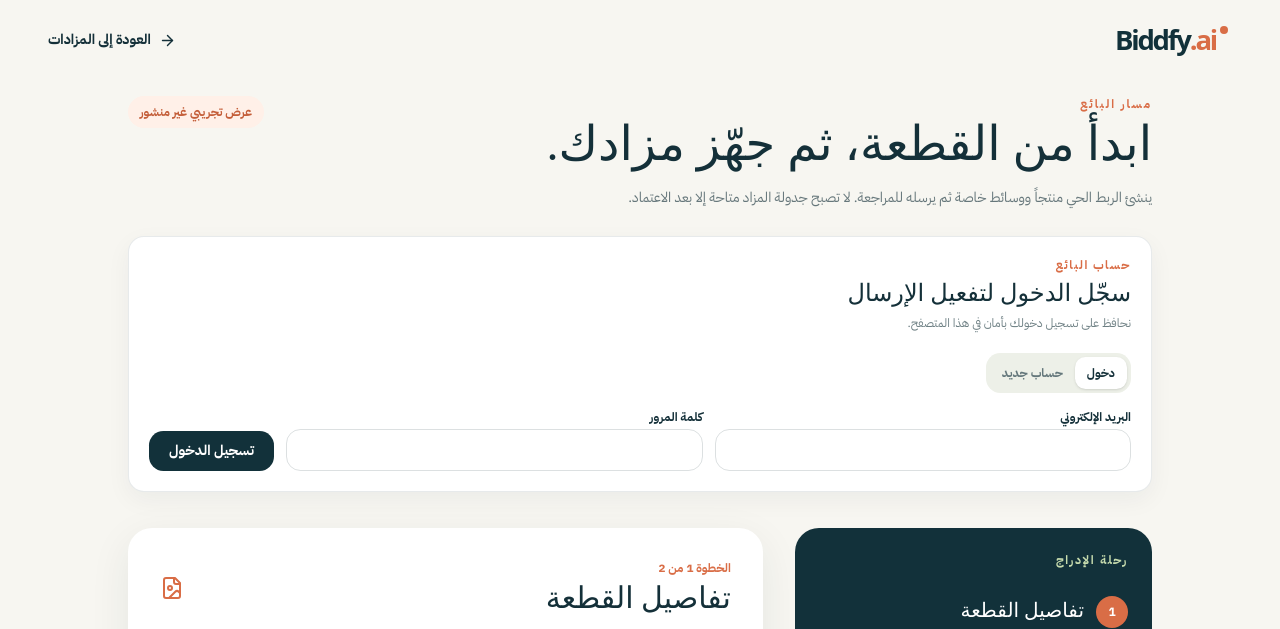
Test case: مسار البائع الحي › يسجل دخول Laravel صراحةً قبل فتح التدفق الحي للبائع
The width and height of the screenshot is (1280, 629).
Expected: the heading "سجّل الدخول لتفعيل الإرسال" is shown, 848,277 -> 1131,309
In the field labelled "البريد الإلكتروني": (923, 450) 714,429 -> 1131,471, type "seller@example.test"
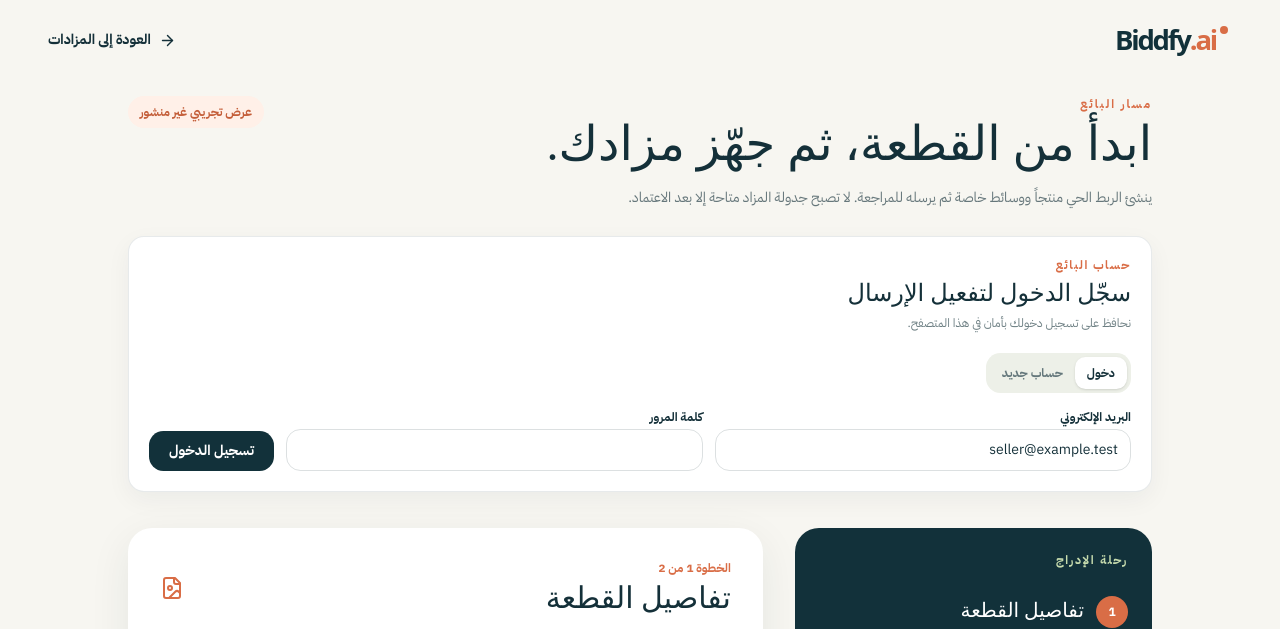
In the password field labelled "كلمة المرور": (494, 450) 286,429 -> 703,471, type "secret-password"
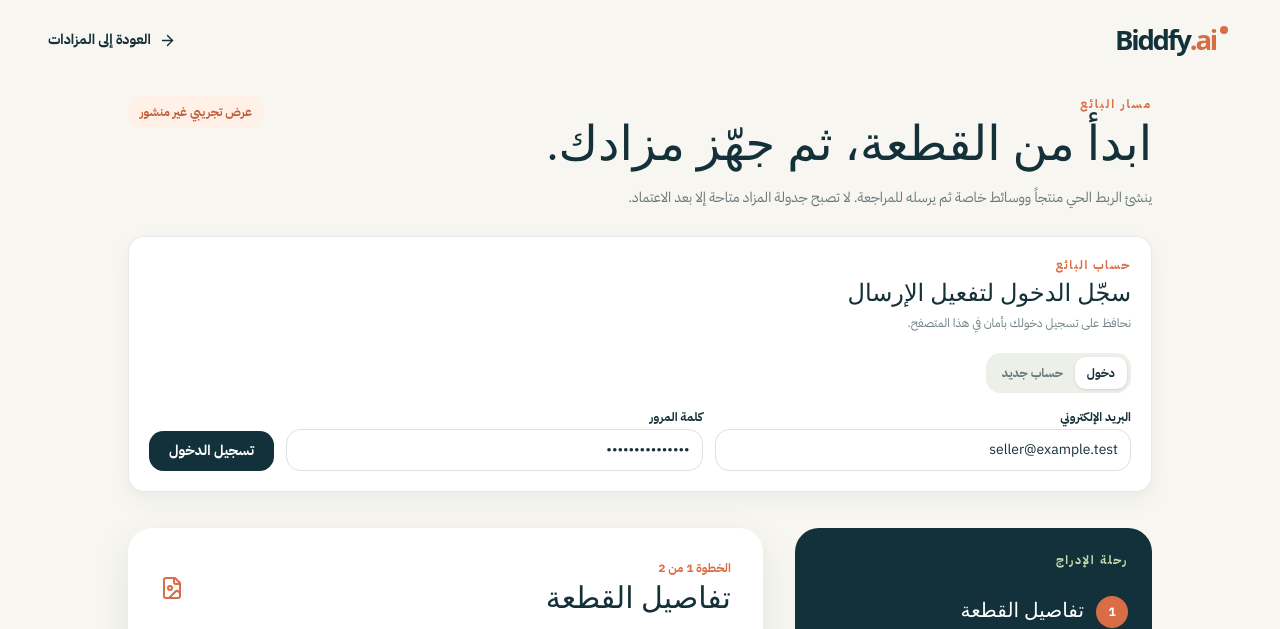
Click the button "تسجيل الدخول": (212, 451) 149,431 -> 274,471
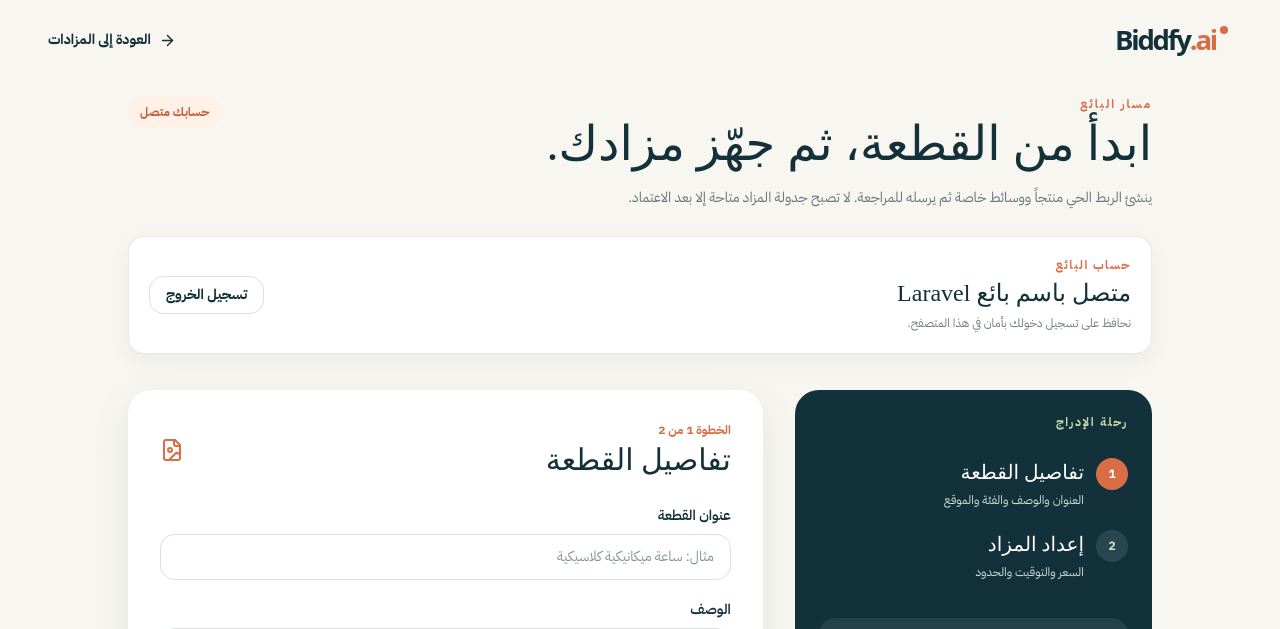
Result: the heading "متصل باسم بائع Laravel" is shown at 897,277 -> 1131,309
